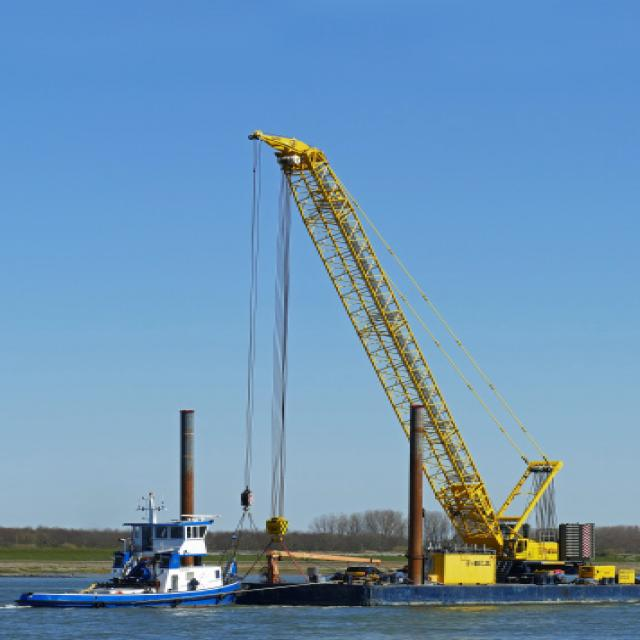tugboat: (7, 492, 257, 621)
